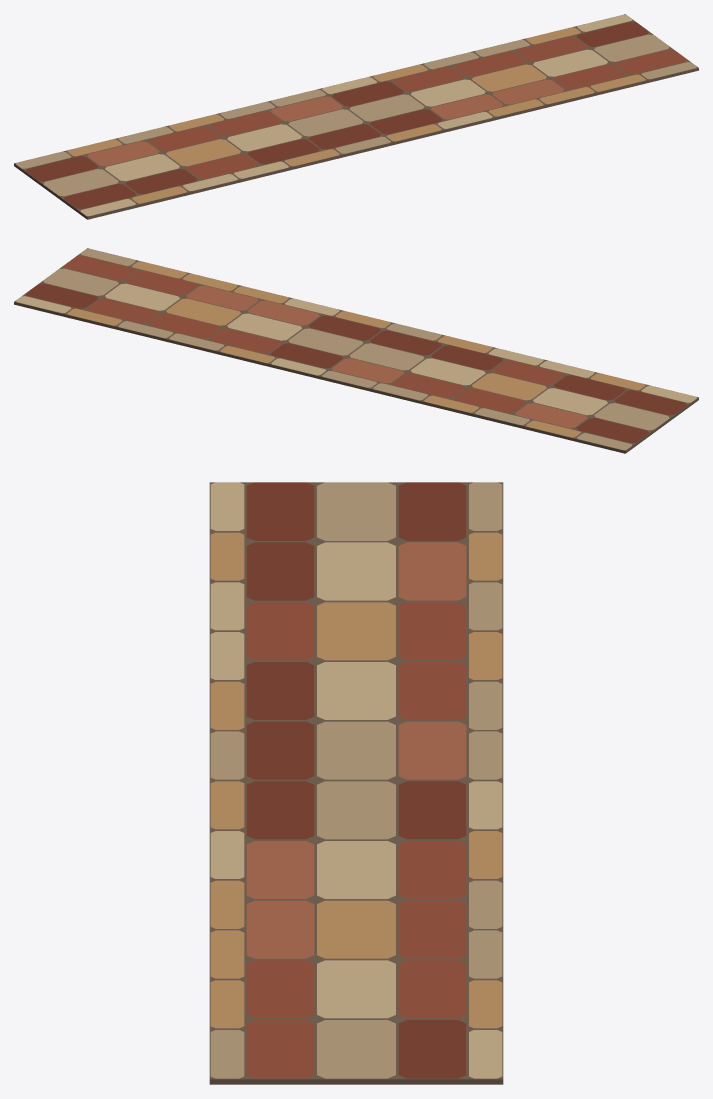
Rendered from w0b-east-gate-paving-ribbon.glb.
3 renders of one model, top to bottom at view 1: azimuth 30°, elevation 25°; view 2: azimuth 150°, elevation 25°; view 3: azimuth 270°, elevation 25°, orthographic. The views are drawn at different scales.
Parts seen in each view (by area): view 1: M07 repeatable 3.75m inlaid paving ribbon; view 2: M07 repeatable 3.75m inlaid paving ribbon; view 3: M07 repeatable 3.75m inlaid paving ribbon.
Part boxes in pixels (x1,y1,x2,y2): M07 repeatable 3.75m inlaid paving ribbon: (14,14,698,219); M07 repeatable 3.75m inlaid paving ribbon: (14,248,698,453); M07 repeatable 3.75m inlaid paving ribbon: (209,482,503,1084).
Bounding box in the file's own units: 3.75 × 0.017 × 0.78.
